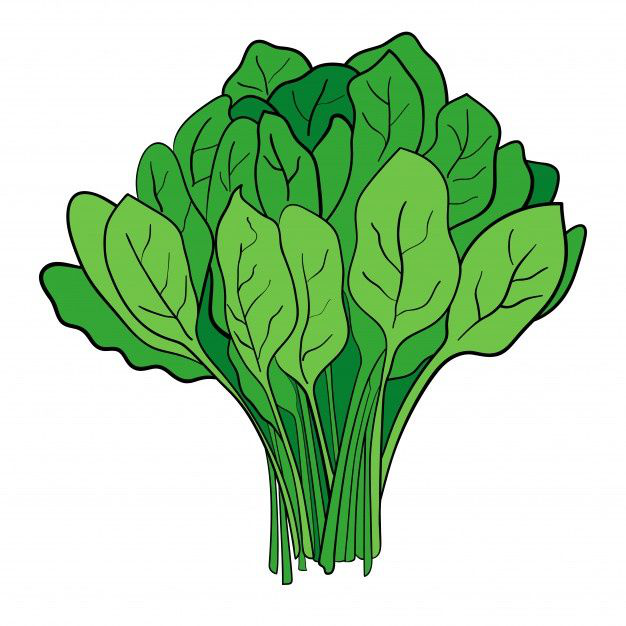Kangkung: (80, 20, 544, 566)
